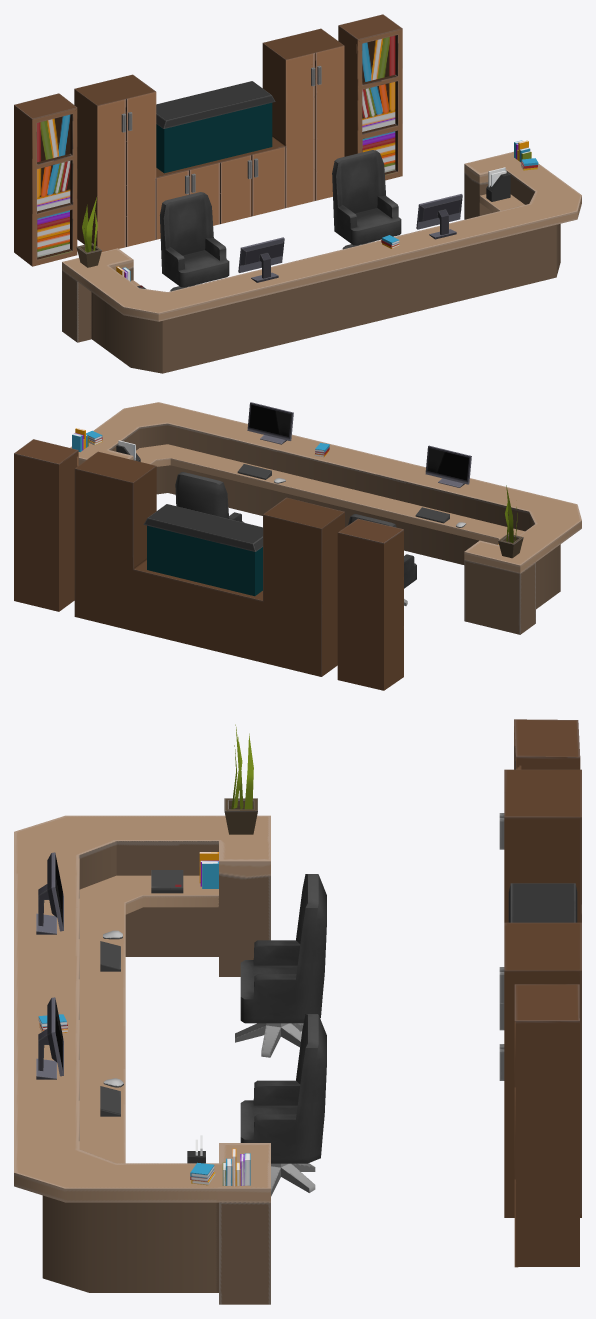
The model's file is reseption.fbx.
3 views of the same model, one above another, from view 1: azimuth 30°, elevation 25°; view 2: azimuth 150°, elevation 25°; view 3: azimuth 270°, elevation 25° (orthographic). The views are drawn at different scales.
Visible parts, largest first — view 1: Circle, Cube.005, Cube.0023347, Object076, Object077, Cube.23348, Cube.004, Cube.012, Cube.001, Plane.004, Object075; view 2: Circle, Cube.005, Cube.0023347, Object076, Object077, Cube.001, Cube.012, Cube.004, Plane.004, Cube.23348; view 3: Circle, Object076, Cube.005, Cube.23348, Cube.004, Cube.001, Cube.0023347, Cube.012, Plane.004, Cube.009, Cube.003, Cube.010.
Part boxes in pixels (x1,y1,x2,y2): Circle: (62,151,581,373); Cube.005: (74,28,344,251); Cube.0023347: (14,93,77,266); Object076: (338,14,402,180); Object077: (156,103,272,173); Cube.23348: (160,192,229,291); Cube.004: (332,150,401,249); Cube.012: (156,81,275,128); Cube.001: (137,194,462,288); Plane.004: (76,197,101,267); Object075: (486,167,510,201); Circle: (70,402,581,634); Cube.005: (74,451,344,676); Cube.0023347: (337,518,403,690); Object076: (14,439,78,611); Object077: (147,525,262,596); Cube.001: (237,402,471,527); Cube.012: (143,504,262,551); Cube.004: (175,472,244,522); Plane.004: (498,485,523,558); Cube.23348: (348,514,416,605); Circle: (14,815,270,1304); Object076: (514,984,579,1267); Cube.005: (499,769,581,1217); Cube.23348: (235,874,326,1057); Cube.004: (240,1014,326,1196); Cube.001: (36,852,183,1116); Cube.0023347: (514,719,580,769); Cube.012: (508,883,577,922); Plane.004: (224,724,257,834); Cube.009: (222,1148,250,1186); Cube.003: (175,852,218,888); Cube.010: (38,1014,215,1185).
Bounding box in the file's own units: 279 × 86.33 × 179.
